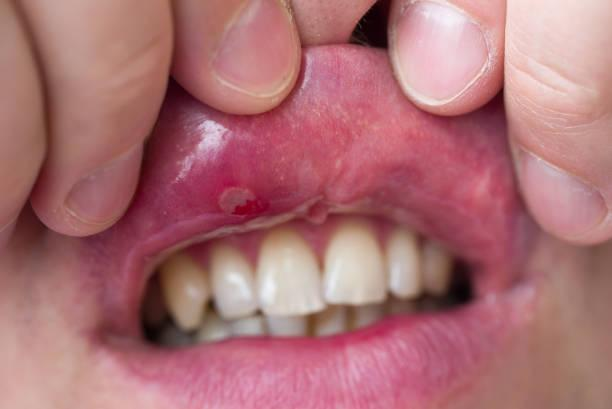Discoloration: (161, 257, 214, 328)
Ulcer: (203, 167, 339, 235)
